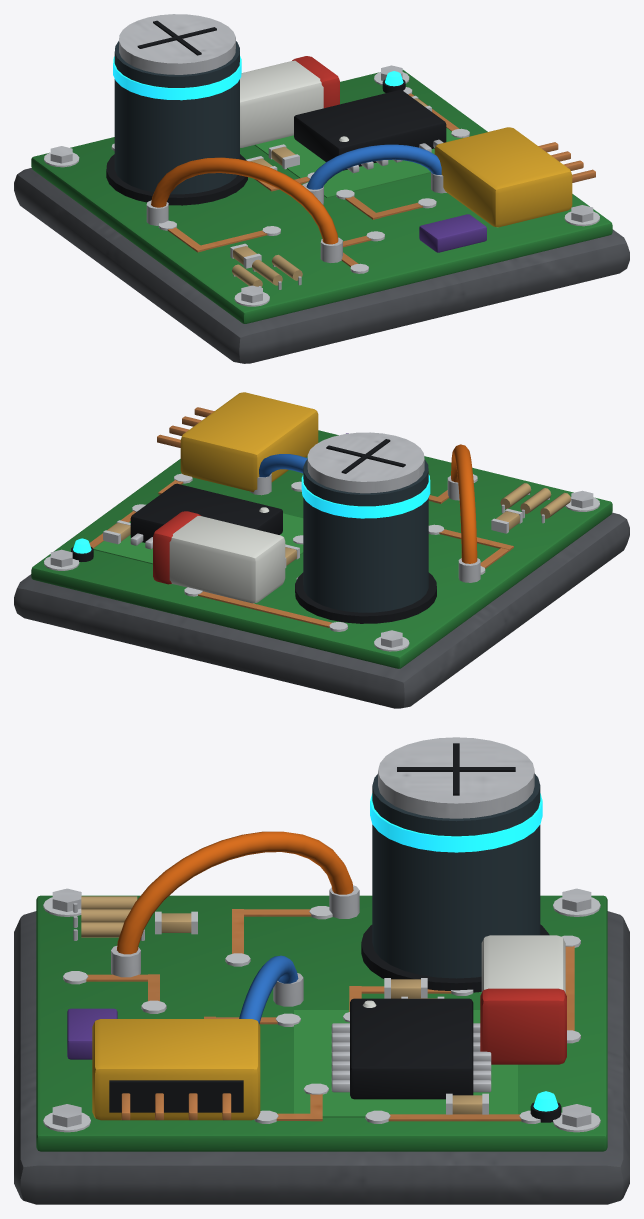
The model's file is circuit_board.glb.
The picture shows the model from 3 angles, top to bottom: view 1: azimuth 30°, elevation 25°; view 2: azimuth 150°, elevation 25°; view 3: azimuth 270°, elevation 25°; orthographic projection. The views are drawn at different scales.
Parts seen in each view (by area): view 1: Board; view 2: Board; view 3: Board.
Boxes of the visible parts, box(x1,y1,x2,y2) form: Board: box(14, 14, 629, 363); Board: box(14, 392, 629, 708); Board: box(14, 737, 629, 1204).
Bounding box in the file's own units: 0.22 × 0.0998 × 0.22.
Materials: 17 (3 with a texture image).
